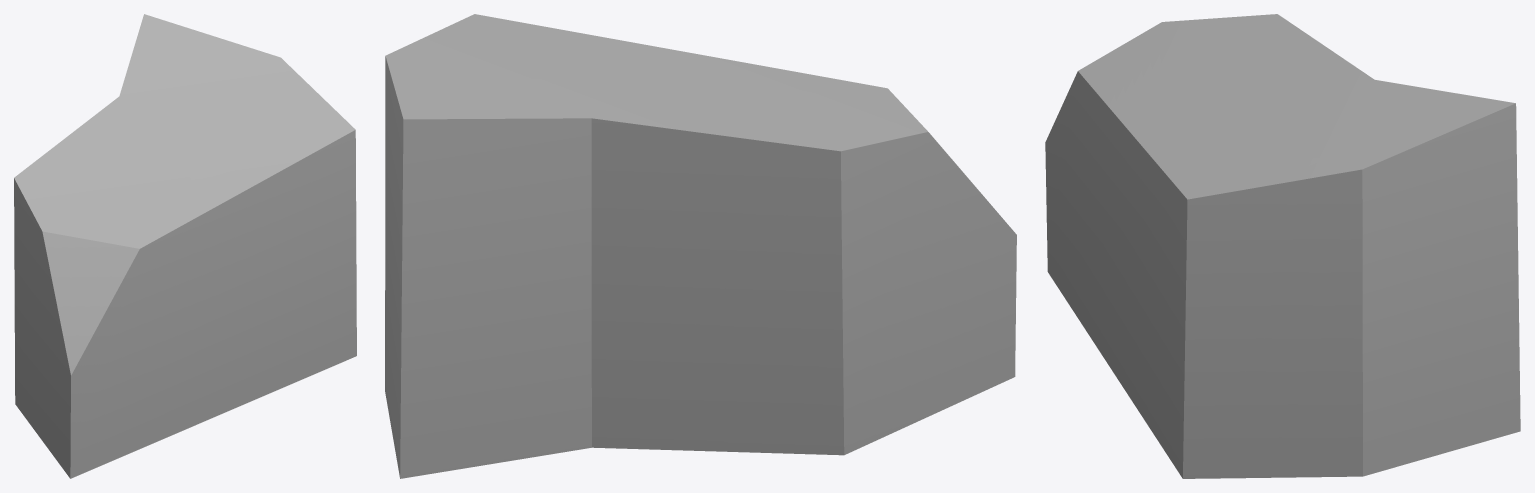
Rendered from stone small 8.fbx.
3 views of the same model, side by side, from view 1: azimuth 30°, elevation 25°; view 2: azimuth 150°, elevation 25°; view 3: azimuth 270°, elevation 25° (orthographic). The views are drawn at different scales.
Parts seen in each view (by area): view 1: stone small 8; view 2: stone small 8; view 3: stone small 8.
Boxes of the visible parts, bbox=[...] form: stone small 8: bbox=[14, 14, 356, 478]; stone small 8: bbox=[385, 14, 1016, 478]; stone small 8: bbox=[1045, 14, 1520, 478].
Size of the model in its own units: 108 by 79.72 by 105.
